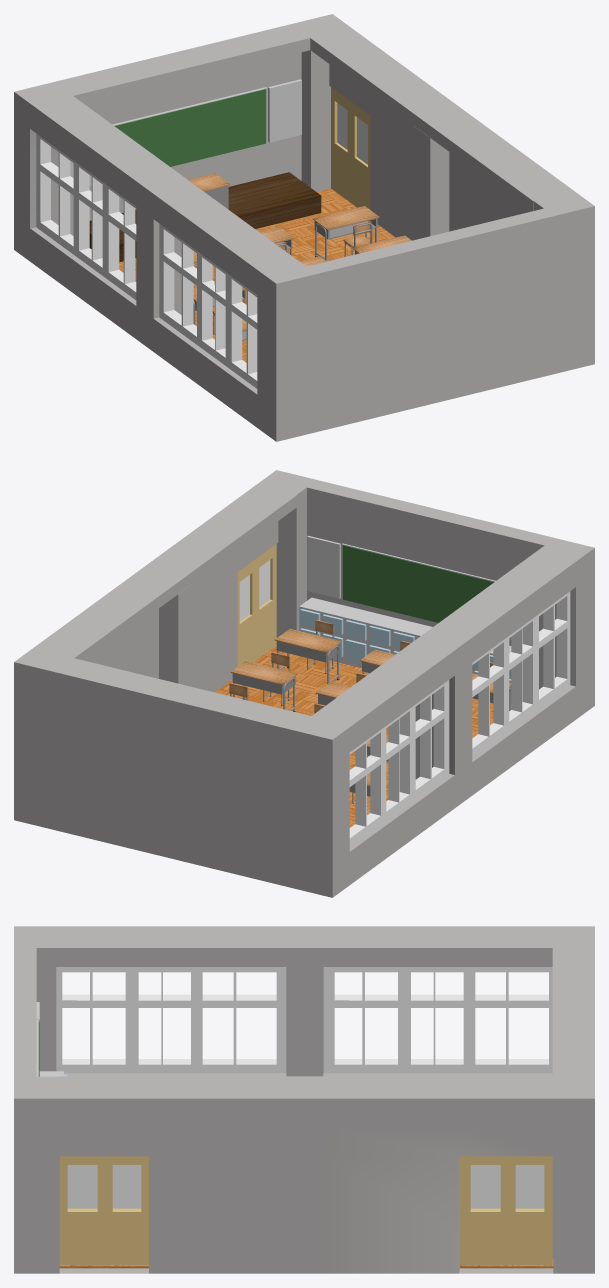
File: class_school.glb
The picture shows the model from 3 angles, top to bottom: view 1: azimuth 30°, elevation 25°; view 2: azimuth 150°, elevation 25°; view 3: azimuth 270°, elevation 25°; orthographic projection. The views are drawn at different scales.
Parts seen in each view (by area): view 1: Object_2, Object_9, Object_12, Object_3, Object_5, Object_10, Object_6, Object_13, Object_17, Object_11; view 2: Object_2, Object_9, Object_12, Object_13, Object_5, Object_6, Object_10, Object_4, Object_17, Object_11; view 3: Object_2, Object_9, Object_10, Object_11, Object_5.
Part boxes in pixels (<box>): Object_2: <box>14,14,594,441</box>; Object_9: <box>36,133,257,388</box>; Object_12: <box>114,89,266,166</box>; Object_3: <box>89,172,321,262</box>; Object_5: <box>119,188,395,362</box>; Object_10: <box>331,87,370,209</box>; Object_6: <box>188,173,411,331</box>; Object_13: <box>70,79,301,186</box>; Object_17: <box>193,186,377,340</box>; Object_11: <box>337,103,367,164</box>; Object_2: <box>14,470,594,897</box>; Object_9: <box>349,591,570,845</box>; Object_12: <box>342,545,494,622</box>; Object_13: <box>299,535,511,704</box>; Object_5: <box>215,645,511,827</box>; Object_6: <box>229,620,511,786</box>; Object_10: <box>237,544,276,666</box>; Object_4: <box>300,609,511,698</box>; Object_17: <box>232,641,511,796</box>; Object_11: <box>239,560,270,621</box>; Object_2: <box>14,926,594,1273</box>; Object_9: <box>56,967,552,1073</box>; Object_10: <box>59,1156,552,1264</box>; Object_11: <box>67,1165,544,1208</box>; Object_5: <box>59,1259,553,1268</box>.
Size of the model in its own units: 30.05 by 14.75 by 42.81.
12 materials, 3 textured.
